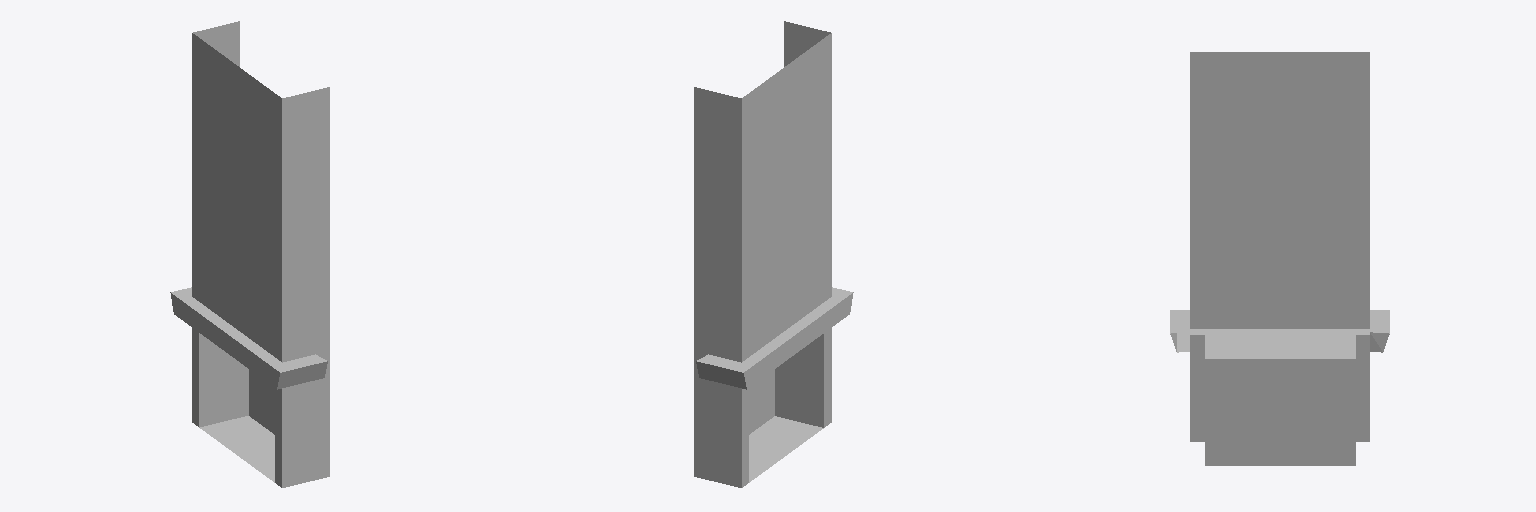
The model's file is fireplace.obj.
The picture shows the model from 3 angles: view 1: azimuth 30°, elevation 25°; view 2: azimuth 150°, elevation 25°; view 3: azimuth 270°, elevation 25°; orthographic projection.
Parts seen in each view (by area): view 1: fireplace walls_grp roomGeo_grp; view 2: fireplace walls_grp roomGeo_grp; view 3: fireplace walls_grp roomGeo_grp.
Part boxes in pixels (x1,y1,x2,y2): fireplace walls_grp roomGeo_grp: (170, 21, 329, 487); fireplace walls_grp roomGeo_grp: (694, 21, 853, 487); fireplace walls_grp roomGeo_grp: (1170, 52, 1389, 465).
Size of the model in its own units: 199 by 1214 by 620.